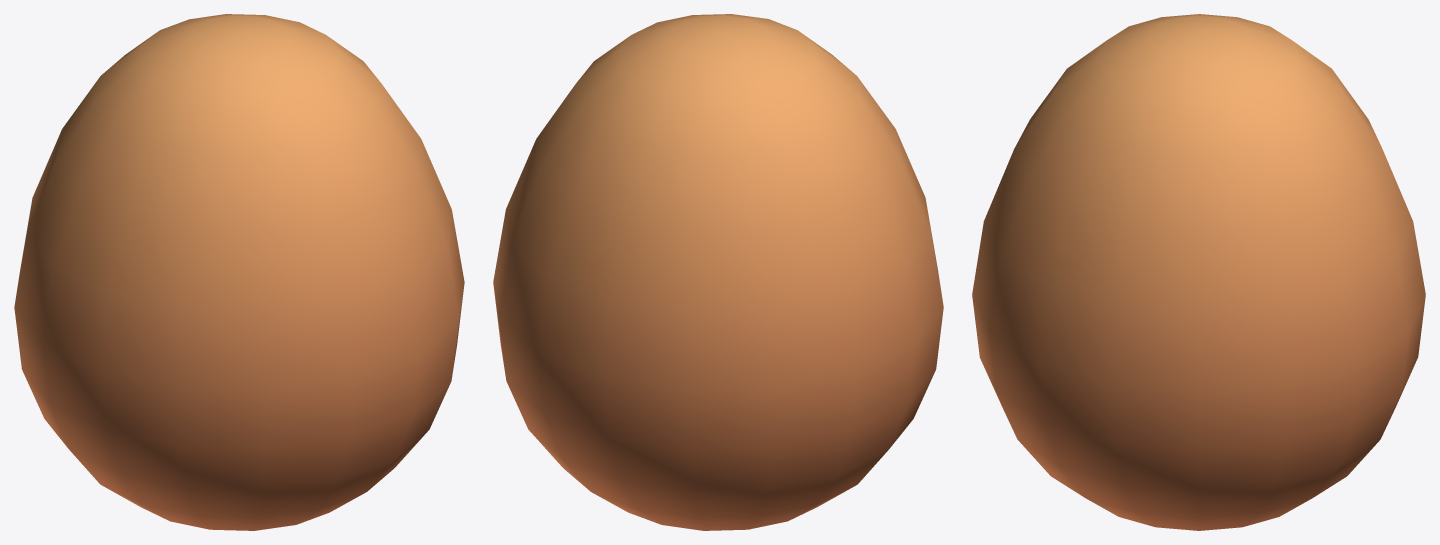
Rendered from Egg_V1_00.fbx.
3 renders of one model, left to right at view 1: azimuth 30°, elevation 25°; view 2: azimuth 150°, elevation 25°; view 3: azimuth 270°, elevation 25°, orthographic.
Visible parts, largest first — view 1: Egg_V1_00; view 2: Egg_V1_00; view 3: Egg_V1_00.
Boxes of the visible parts, bbox=[...] form: Egg_V1_00: bbox=[14, 14, 464, 530]; Egg_V1_00: bbox=[493, 14, 943, 530]; Egg_V1_00: bbox=[972, 14, 1425, 530].
Bounding box in the file's own units: 25.77 × 30.01 × 25.78.
